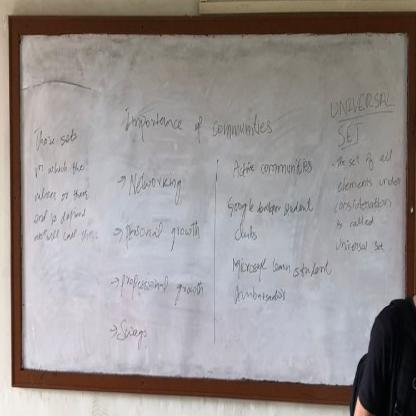Handwritten text: (122, 93, 277, 147), (222, 190, 314, 247), (118, 266, 206, 311), (125, 214, 204, 255), (230, 251, 334, 282), (30, 204, 101, 248), (228, 150, 314, 185), (127, 160, 190, 206), (230, 279, 291, 322), (328, 86, 393, 119), (31, 116, 81, 155), (334, 169, 405, 194), (31, 152, 86, 180), (116, 310, 147, 359), (333, 149, 396, 172), (335, 234, 388, 261), (33, 182, 90, 207), (330, 192, 394, 214), (337, 118, 365, 149), (334, 214, 376, 232)
Whiteboard: (14, 26, 411, 394)
